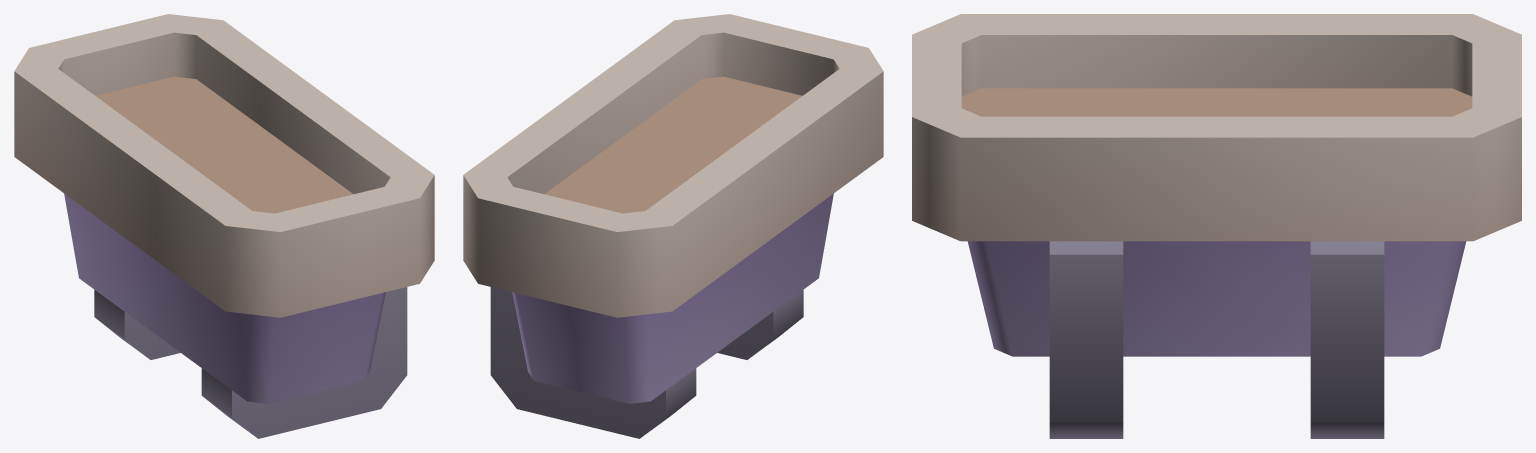
The model's file is planter-wall-small (%wall).glb.
3 renders of one model, left to right at view 1: azimuth 30°, elevation 25°; view 2: azimuth 150°, elevation 25°; view 3: azimuth 270°, elevation 25°, orthographic. The views are drawn at different scales.
Parts seen in each view (by area): view 1: planter-wall-small (%wall); view 2: planter-wall-small (%wall); view 3: planter-wall-small (%wall).
Part boxes in pixels (left/top/right/bottom): planter-wall-small (%wall): left=14, top=14, right=434, bottom=438; planter-wall-small (%wall): left=463, top=14, right=883, bottom=438; planter-wall-small (%wall): left=912, top=14, right=1521, bottom=438.
Size of the model in its own units: 0.2078 by 0.2334 by 0.4146.
